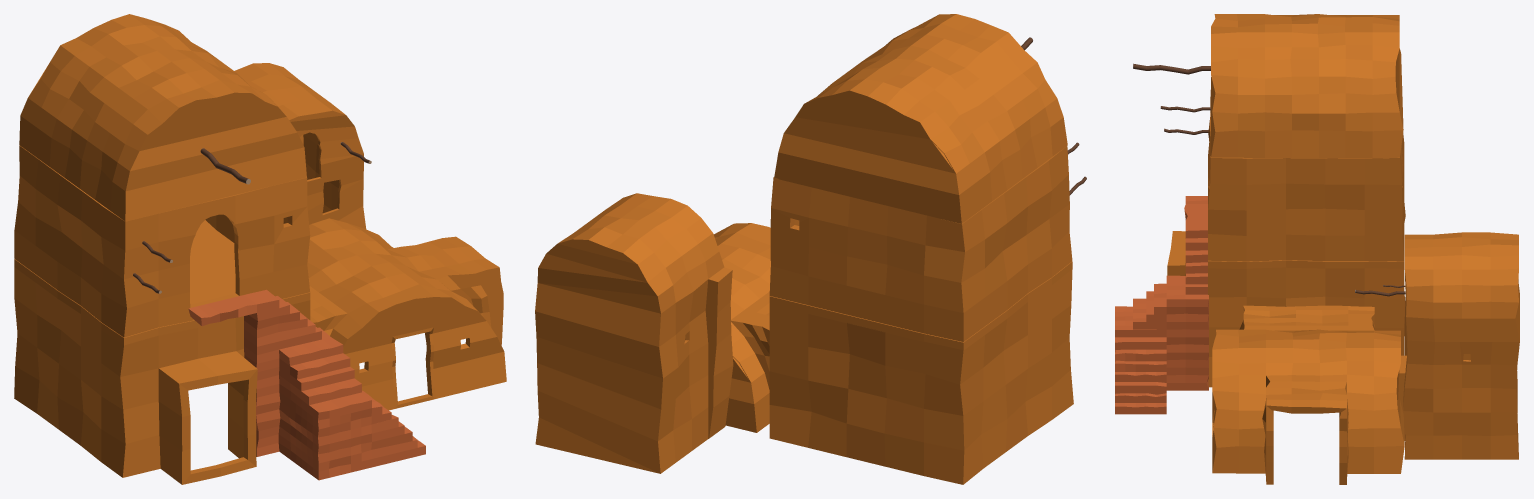
Rendered from Tunisia_house1.fbx.
3 renders of one model, left to right at view 1: azimuth 30°, elevation 25°; view 2: azimuth 150°, elevation 25°; view 3: azimuth 270°, elevation 25°, orthographic. The views are drawn at different scales.
Parts seen in each view (by area): view 1: Roof.001, 1st Florr wall, 2nd floor wall, Side Camp, Front Stair.001, Small_house, 2nd Floor; view 2: Small_house, 1st Florr wall, Roof.001, 2nd floor wall, Side Camp, 2nd Floor; view 3: Roof.001, Side Camp, Small_house, 2nd floor wall, Front Stair.001, 1st Florr wall, 2nd Floor, Stick.
Part boxes in pixels (left/top/right/bottom): Roof.001: left=19, top=14, right=306, bottom=221; 1st Florr wall: left=14, top=267, right=310, bottom=484; 2nd floor wall: left=14, top=145, right=310, bottom=337; Side Camp: left=307, top=218, right=506, bottom=410; Front Stair.001: left=188, top=289, right=425, bottom=480; Small_house: left=234, top=63, right=366, bottom=228; 2nd Floor: left=14, top=220, right=310, bottom=345; Small_house: left=535, top=193, right=733, bottom=473; 1st Florr wall: left=769, top=269, right=1073, bottom=484; Roof.001: left=774, top=14, right=1067, bottom=223; 2nd floor wall: left=769, top=146, right=1072, bottom=341; Side Camp: left=713, top=223, right=770, bottom=432; 2nd Floor: left=769, top=261, right=1072, bottom=350; Roof.001: left=1211, top=14, right=1403, bottom=158; Side Camp: left=1212, top=305, right=1404, bottom=484; Small_house: left=1399, top=232, right=1519, bottom=459; 2nd floor wall: left=1208, top=90, right=1404, bottom=261; Front Stair.001: left=1115, top=196, right=1208, bottom=414; 1st Florr wall: left=1167, top=203, right=1405, bottom=387; 2nd Floor: left=1208, top=260, right=1404, bottom=268; Stick: left=1133, top=63, right=1210, bottom=74.
Bounding box in the file's own units: 2030 × 1696 × 1919.
3 materials, 1 textured.
